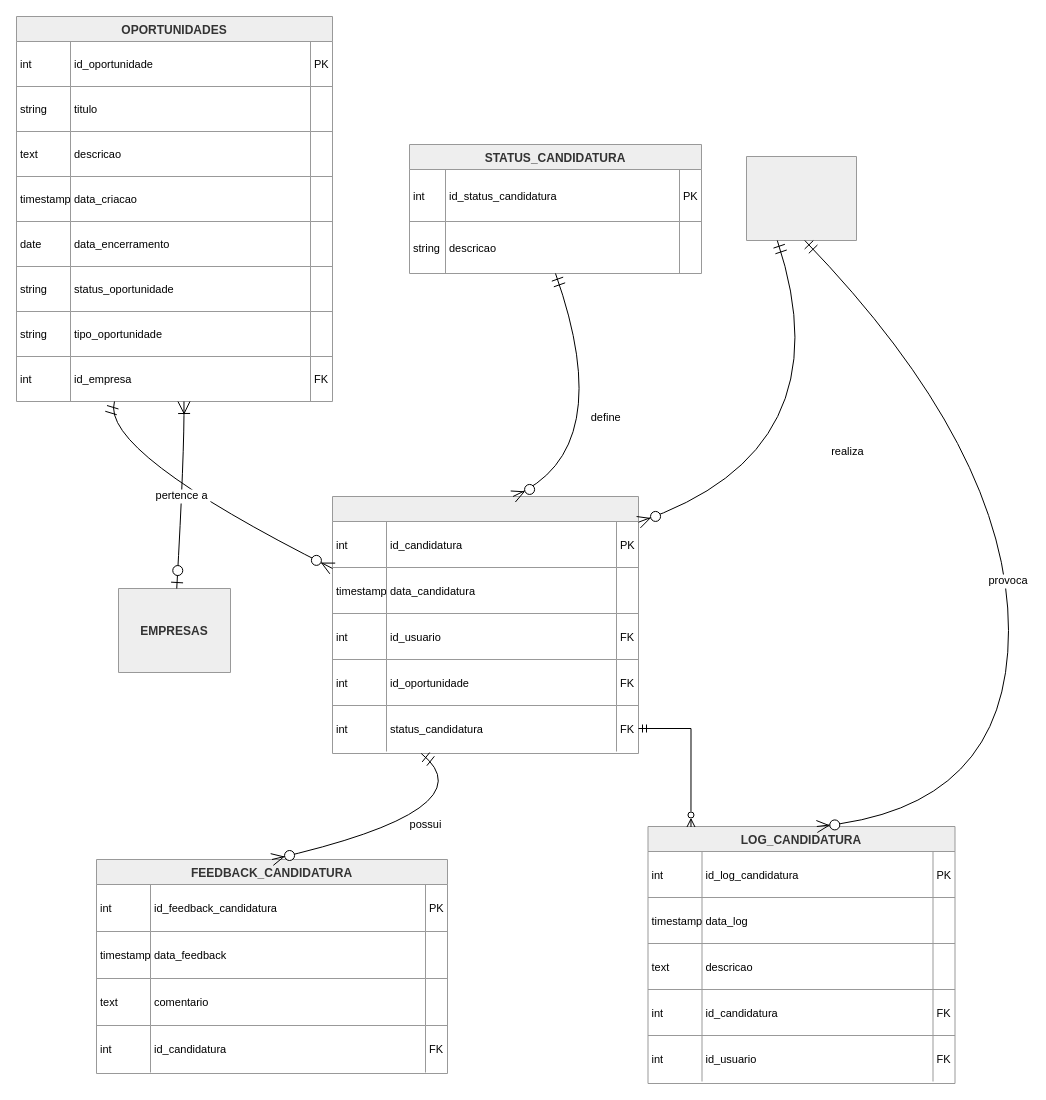
Some shapes in this 1046 by 1100 pixel diagram are drawn without their labels. Here are the shapes that lost their labels. From the top down, the box of each, then its label:
(746, 156, 856, 240): USUARIOS
(332, 496, 638, 754): CANDIDATURAS
